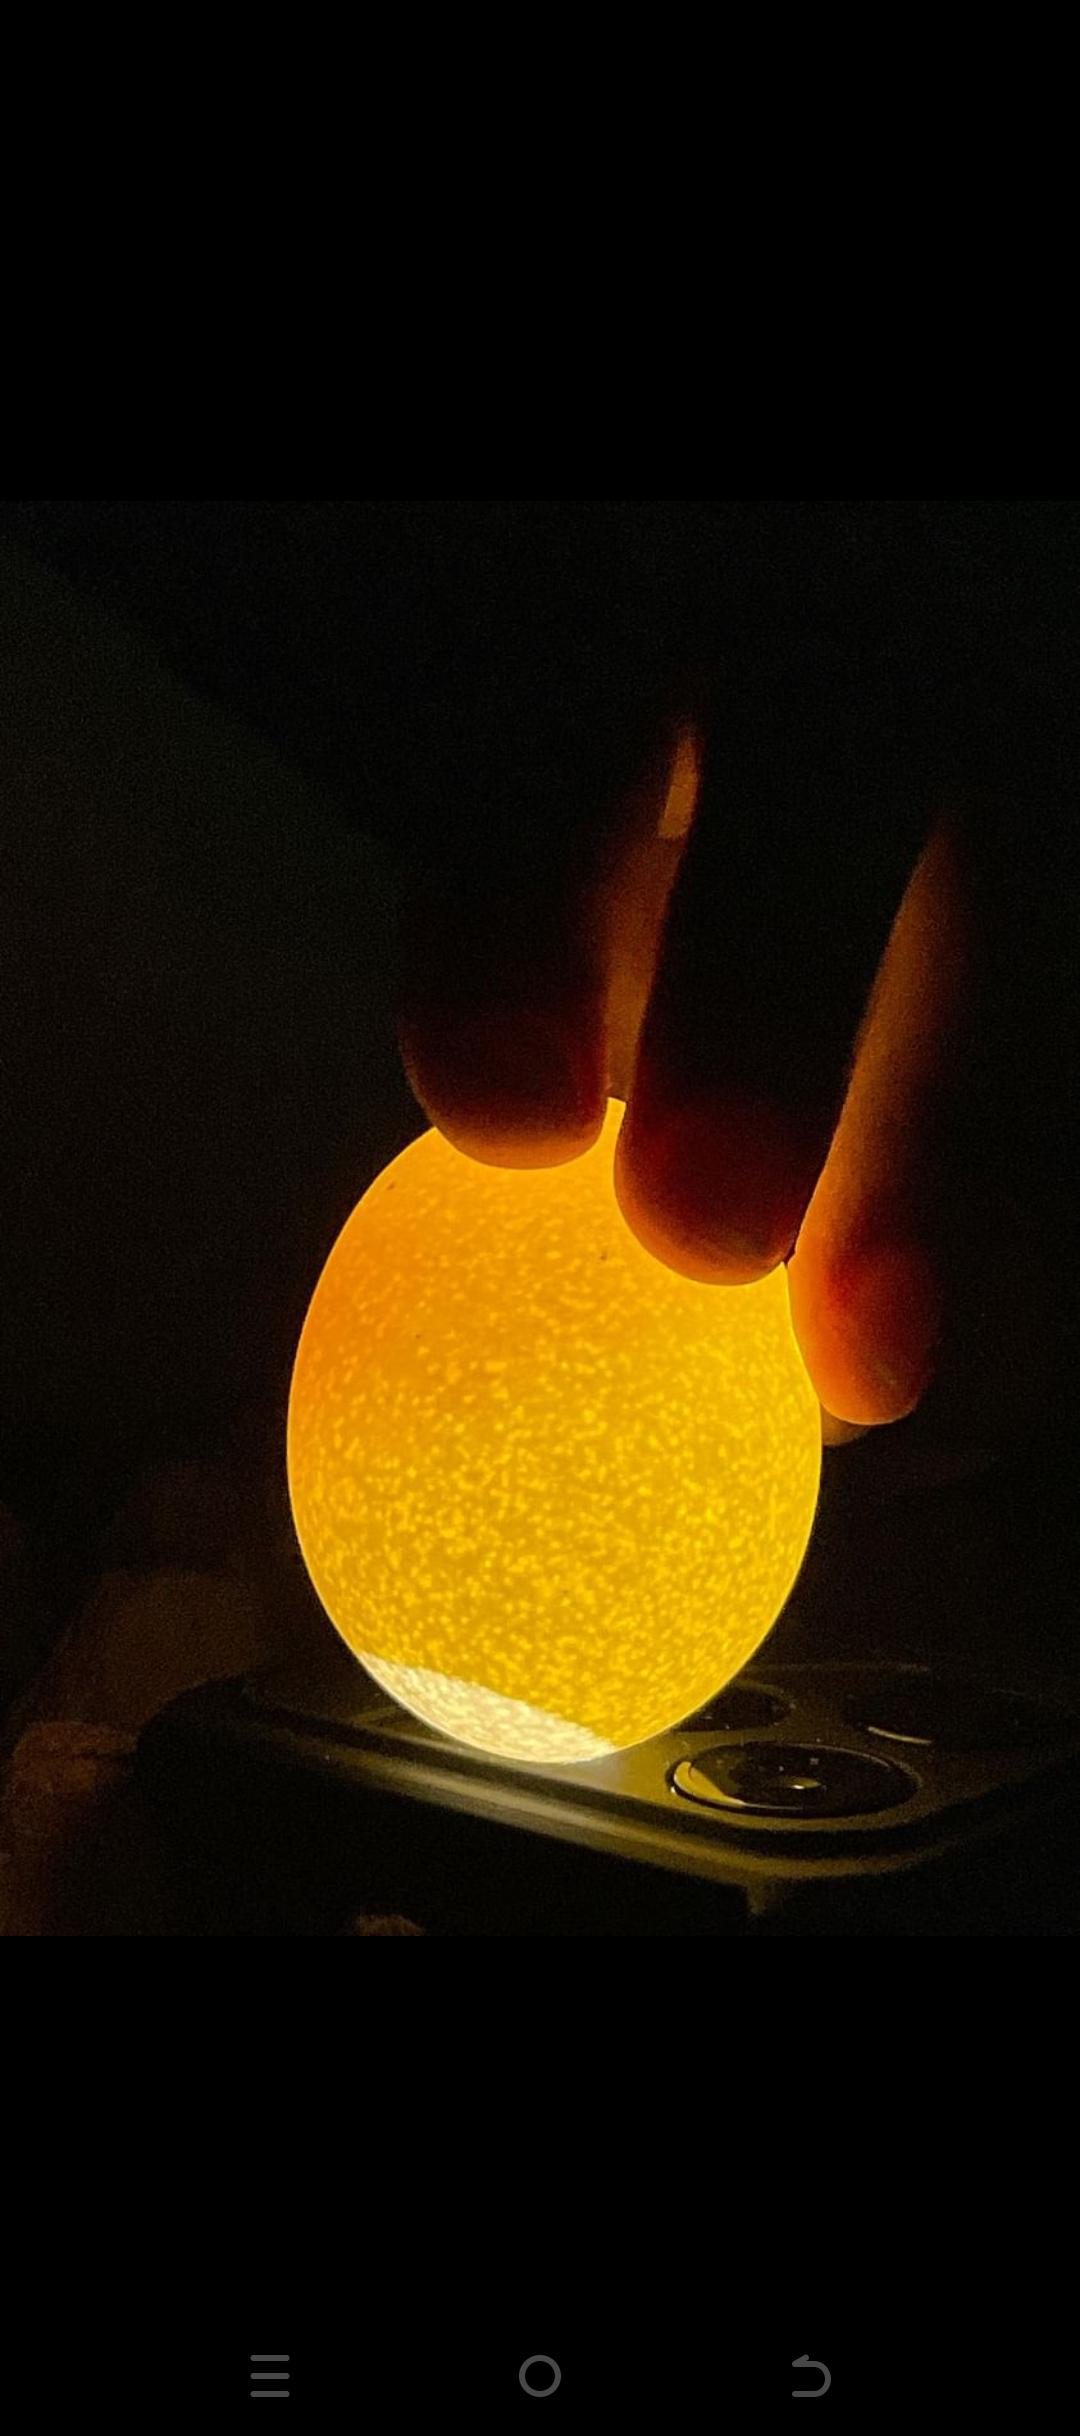A - Good: (277, 1077, 843, 1787)
